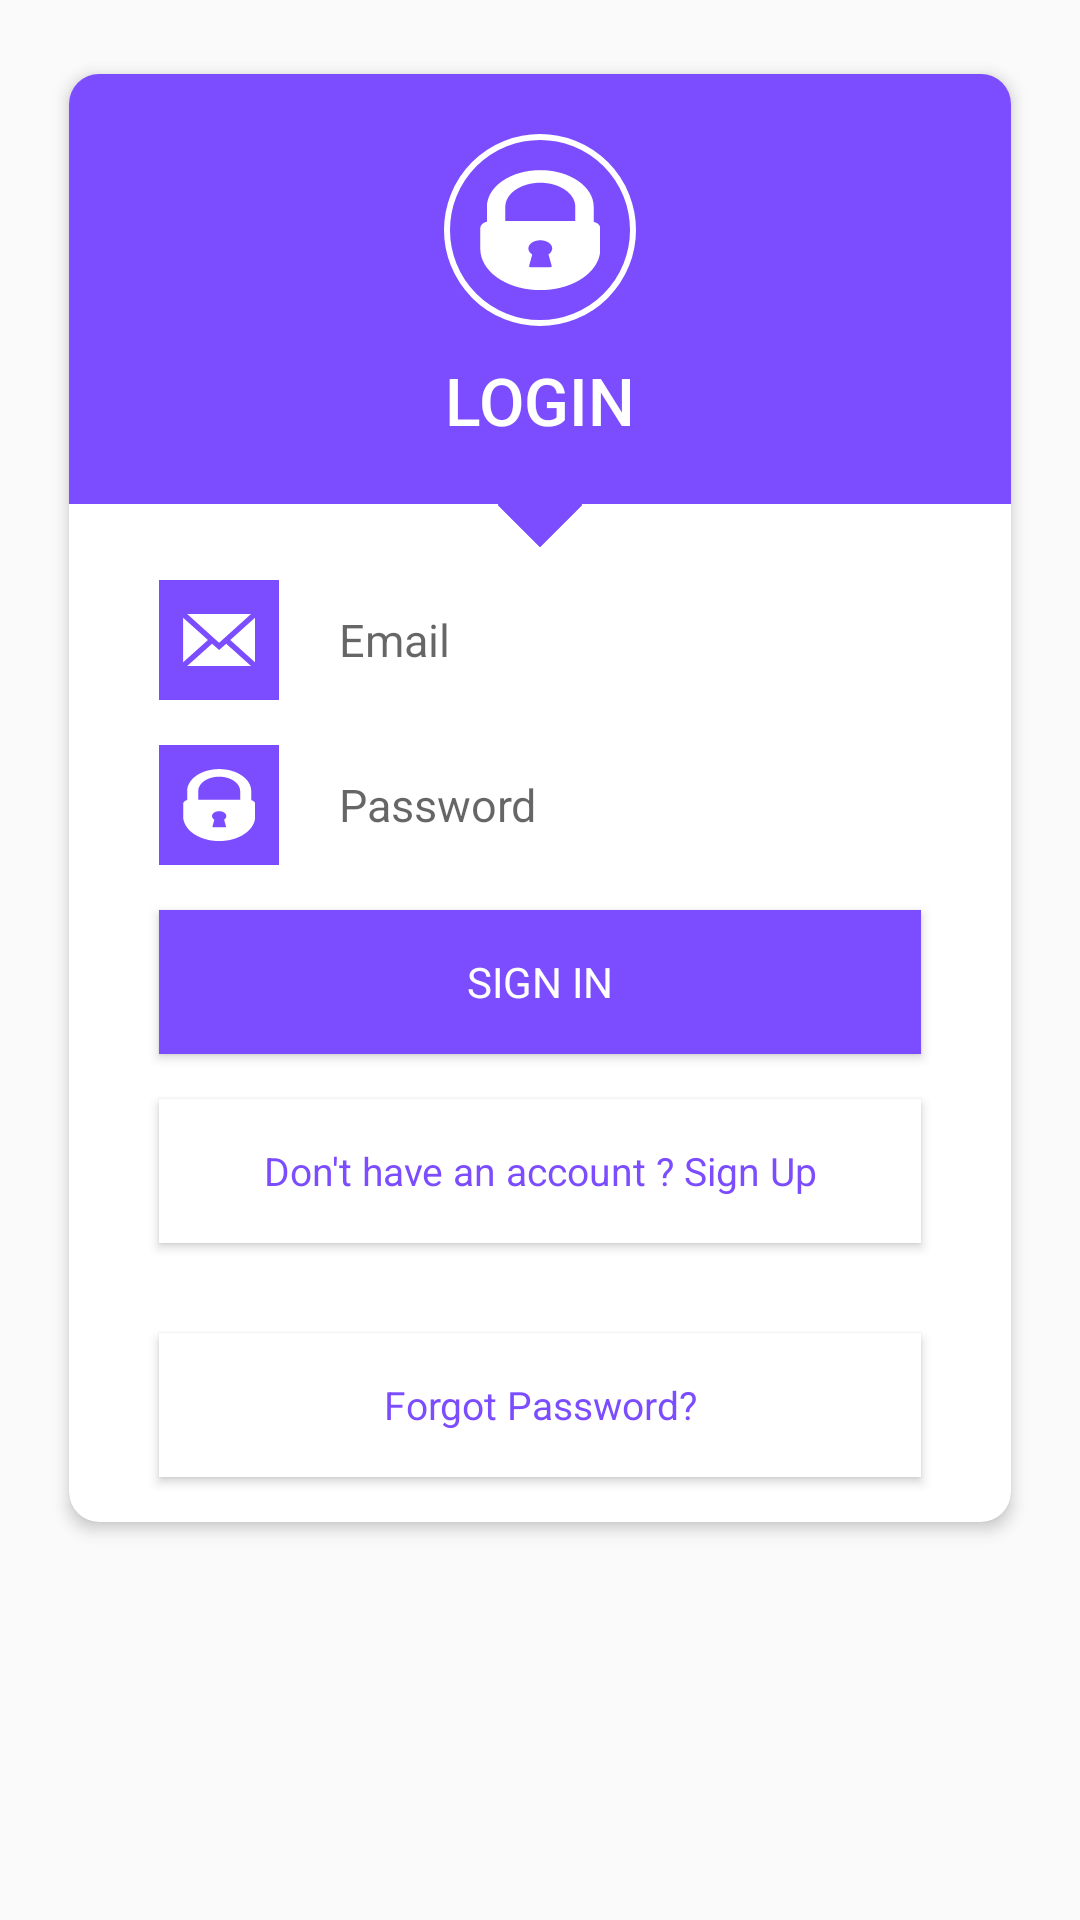

Screen size 1080*1920. Icon name, then its box in pixels as (x1, y1, x2, y2):
lock: (444, 134, 636, 326), (159, 745, 279, 865)
